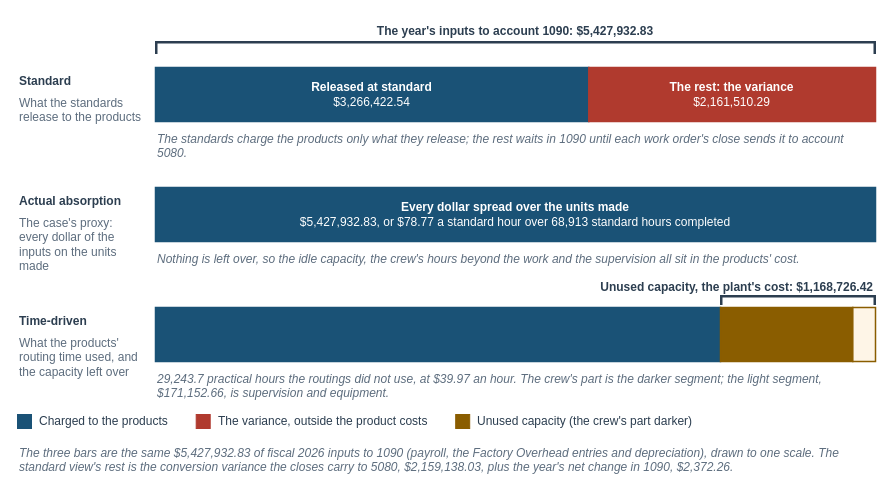
This 895x496 diagram has some shape labels left out. Here are the shapes that lost their labels. From the top down, the centre of each, then its label:
At point (437, 334): "The products' conversion $4,259,206.41".
At point (786, 334): "The crew $997,573.76".
